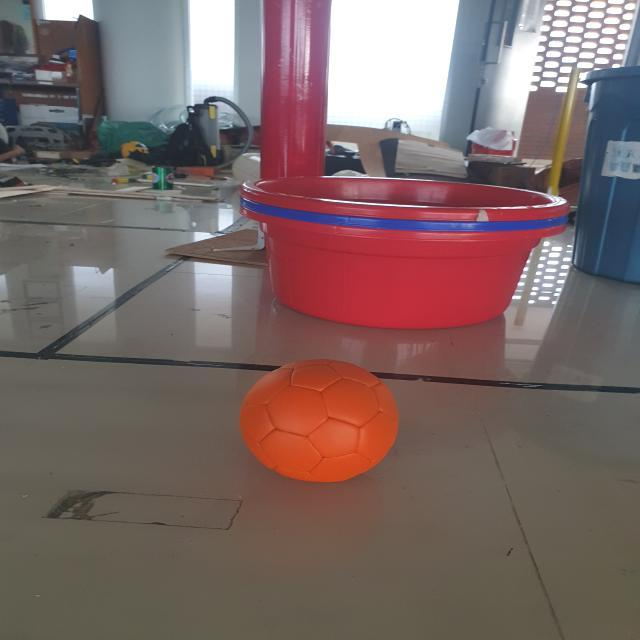bola: (228, 354, 406, 486)
